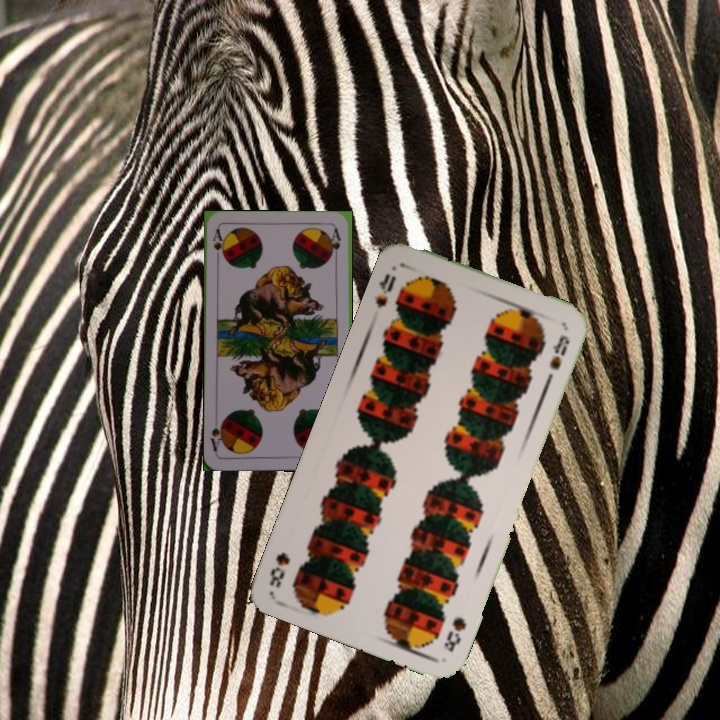S8: (440, 613, 469, 655), (371, 269, 399, 311)
SA: (209, 225, 227, 266)
